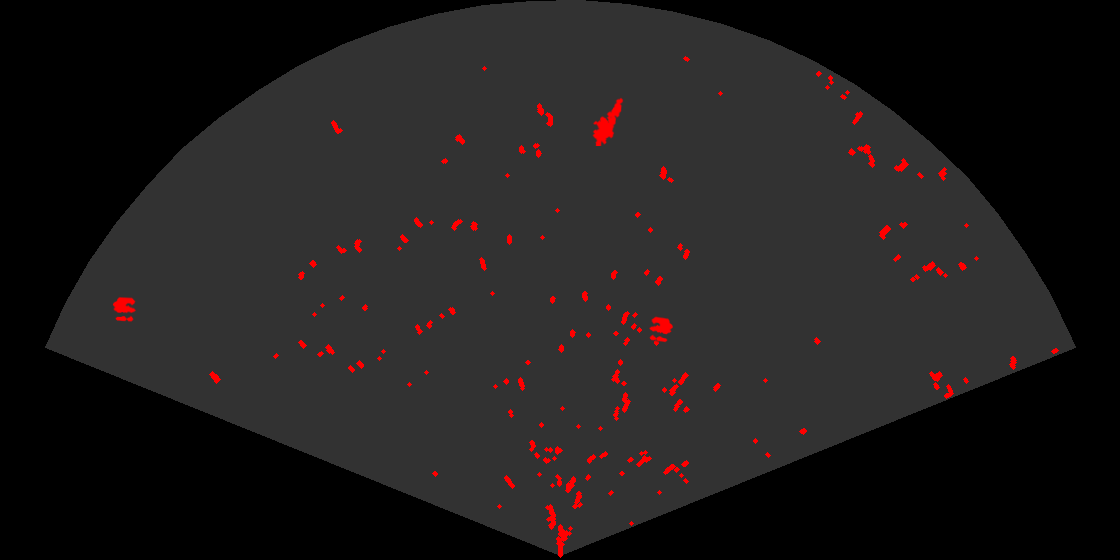ball: (111, 295, 138, 323), (648, 315, 674, 344)
frogman: (591, 95, 625, 146)
